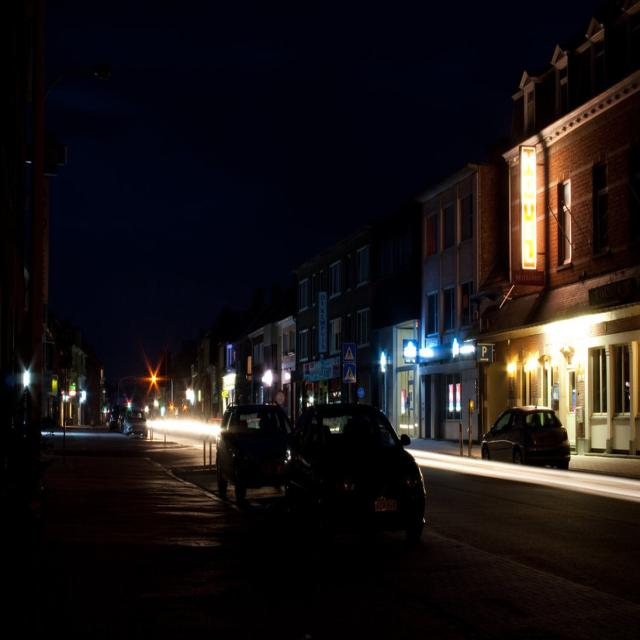car: (293, 390, 425, 554), (202, 376, 308, 506), (474, 365, 574, 484), (124, 402, 166, 453), (103, 394, 128, 441)
